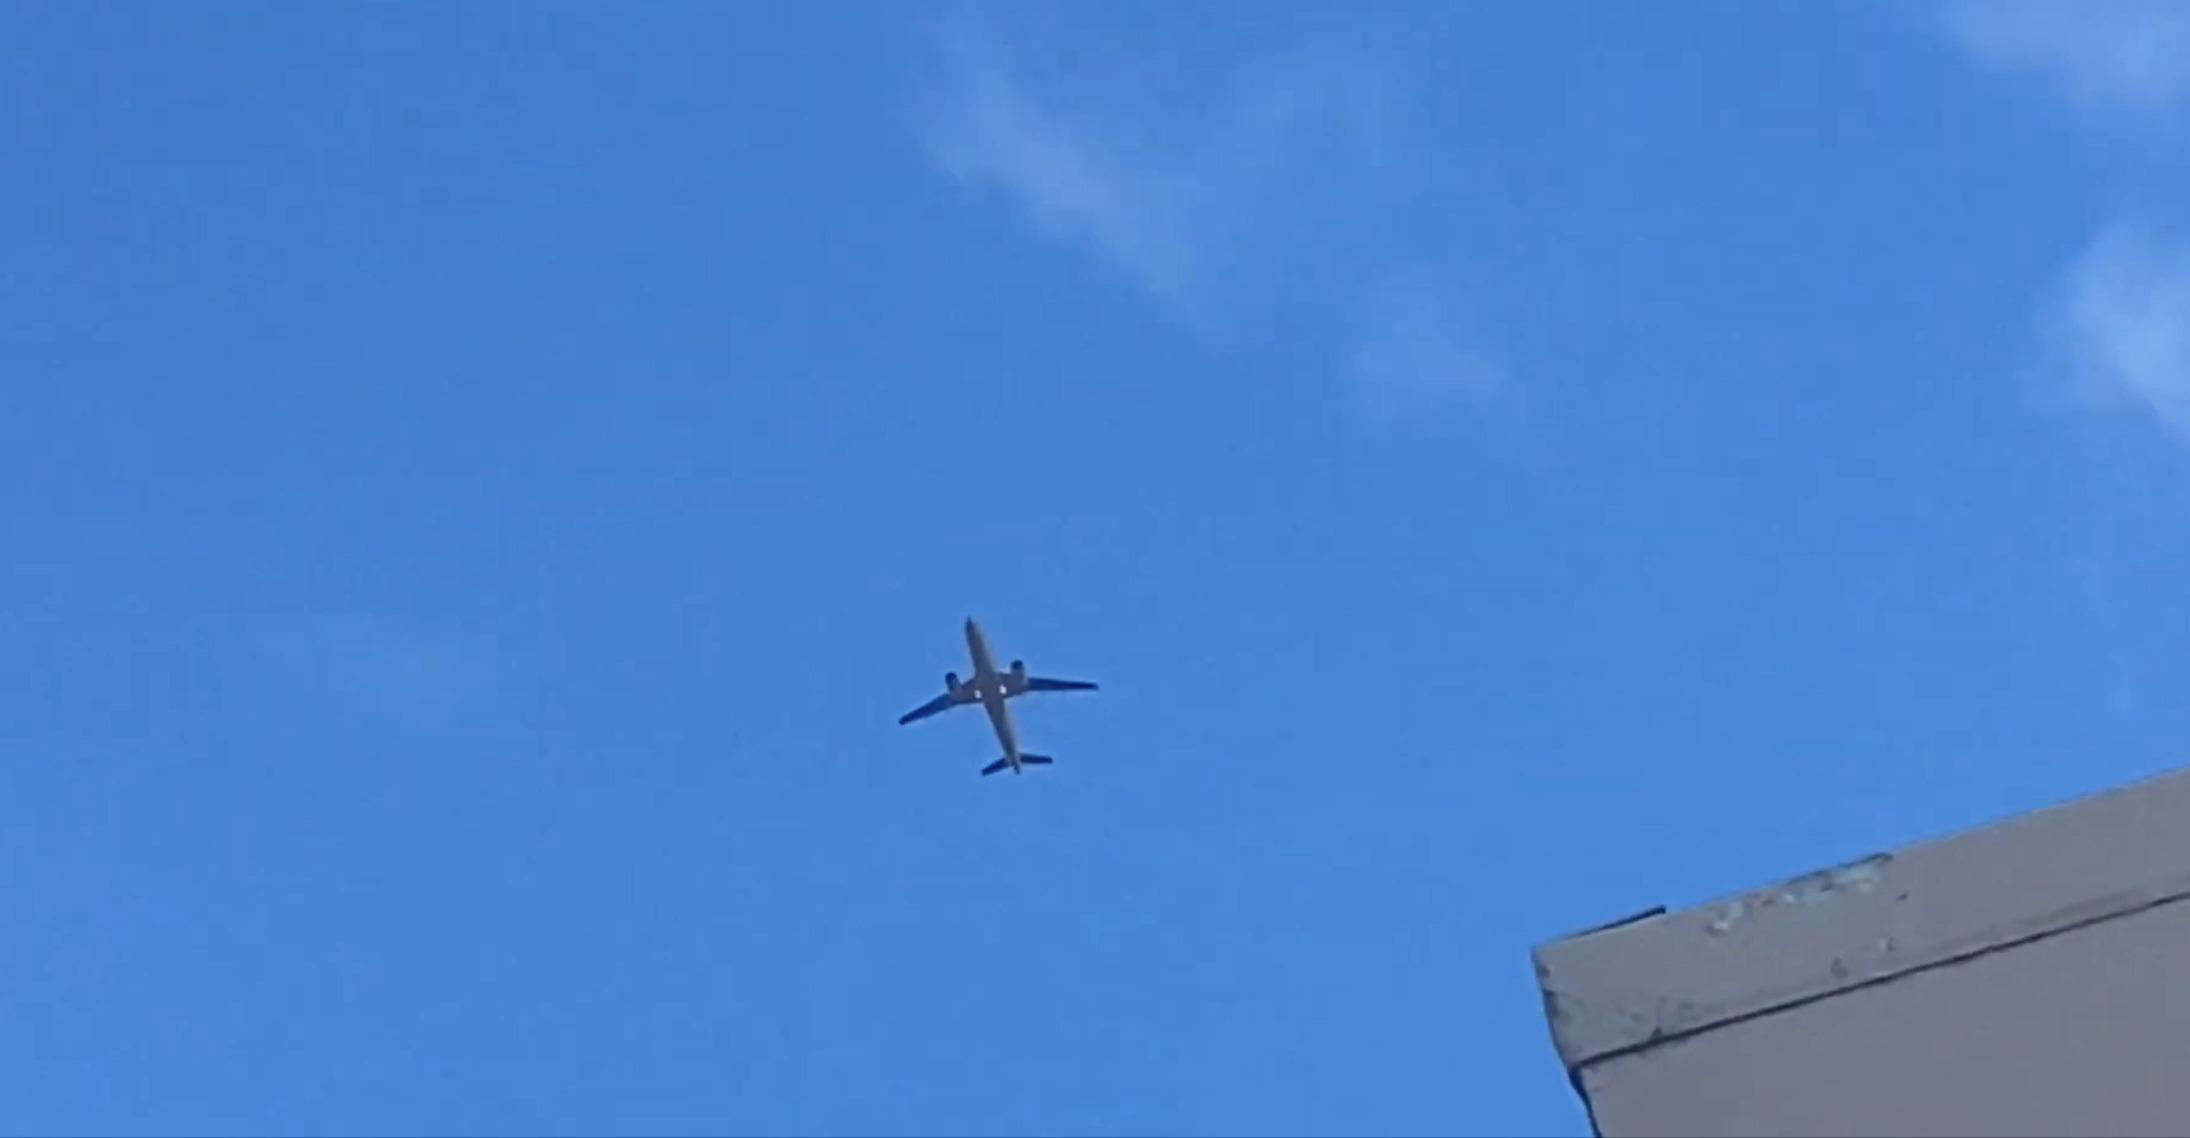Plane: (862, 585, 1115, 808)
